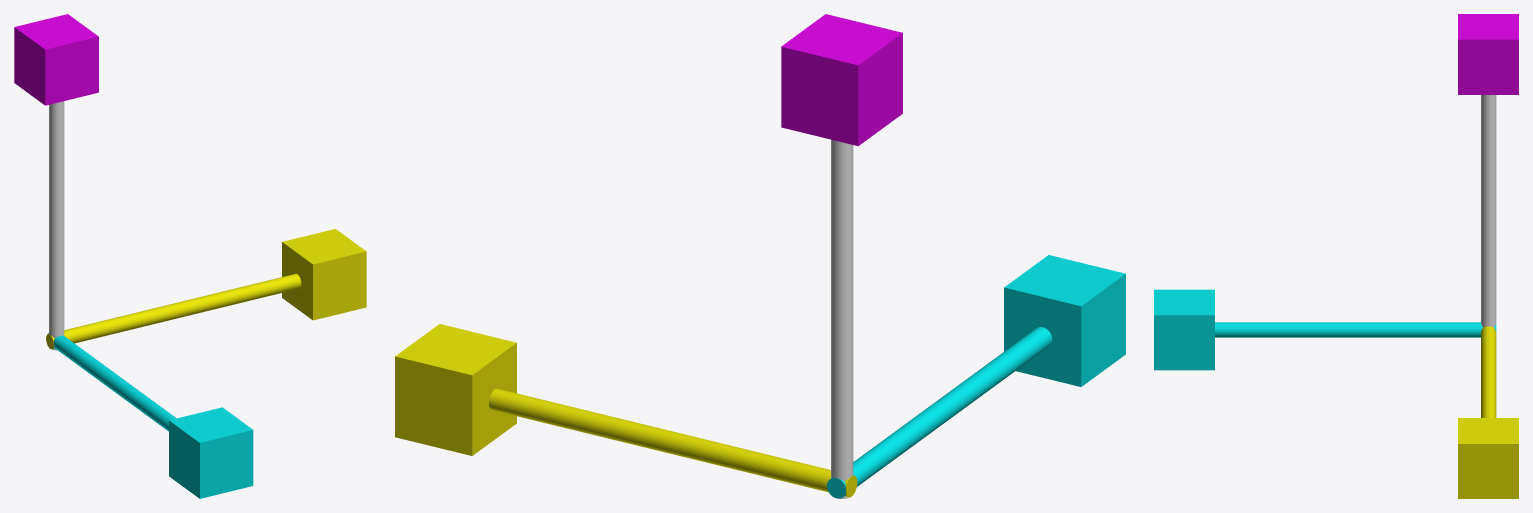
Rendered from Scale.fbx.
3 renders of one model, left to right at view 1: azimuth 30°, elevation 25°; view 2: azimuth 150°, elevation 25°; view 3: azimuth 270°, elevation 25°, orthographic. The views are drawn at different scales.
Visible parts, largest first — view 1: Cylinder.006, Cylinder.005, Cylinder.004, Cylinder.001; view 2: Cylinder.006, Cylinder.005, Cylinder.004, Cylinder.001; view 3: Cylinder.005, Cylinder.006, Cylinder.004, Cylinder.001.
Part boxes in pixels (x1=…): Cylinder.006: x1=46, y1=229, x2=366, y2=348; Cylinder.005: x1=48, y1=333, x2=253, y2=498; Cylinder.004: x1=14, y1=14, x2=98, y2=105; Cylinder.001: x1=49, y1=101, x2=64, y2=350; Cylinder.006: x1=395, y1=324, x2=857, y2=497; Cylinder.005: x1=827, y1=255, x2=1125, y2=498; Cylinder.004: x1=781, y1=14, x2=902, y2=146; Cylinder.001: x1=831, y1=139, x2=853, y2=498; Cylinder.005: x1=1154, y1=289, x2=1496, y2=370; Cylinder.006: x1=1458, y1=326, x2=1518, y2=498; Cylinder.004: x1=1458, y1=14, x2=1518, y2=94; Cylinder.001: x1=1481, y1=95, x2=1496, y2=327.
Bounding box in the file's own units: 120 × 120 × 120.
